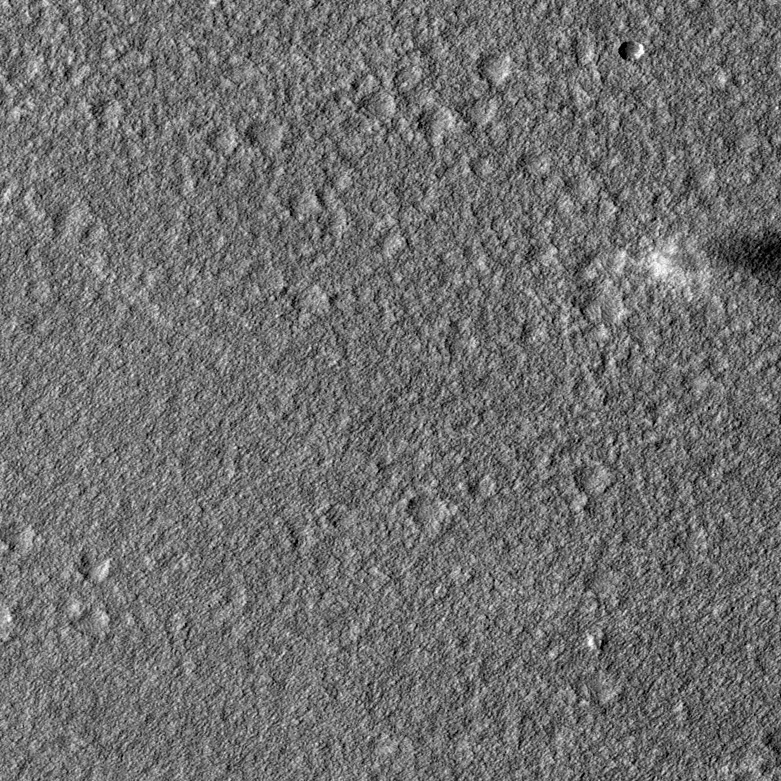dust_devil: (635, 225, 781, 298)
